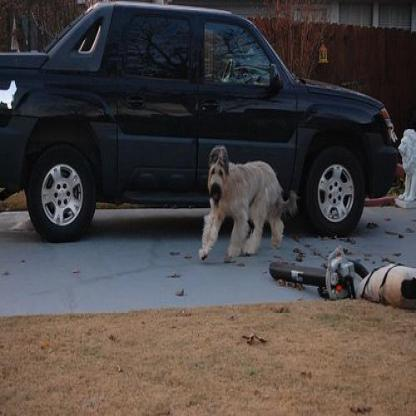briard: (196, 133, 306, 269)
